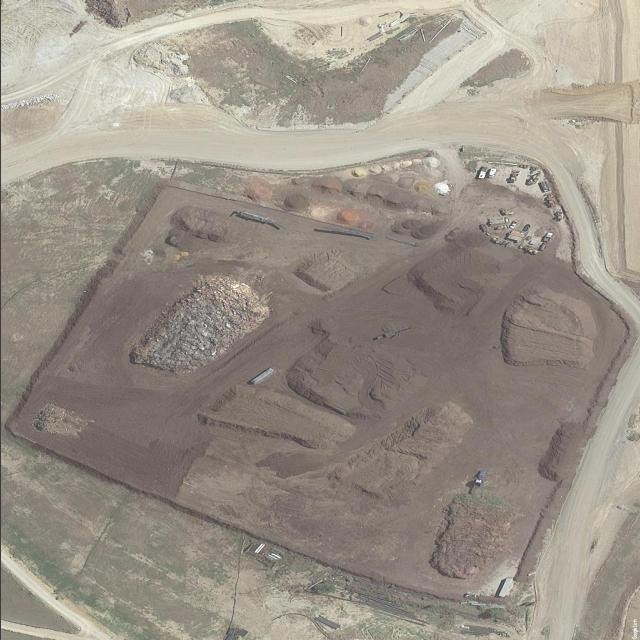dump_site: (119, 269, 282, 384), (309, 566, 445, 627), (129, 34, 212, 113), (152, 204, 236, 264), (29, 400, 98, 443), (0, 93, 59, 112)
